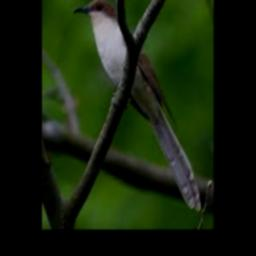Cuckoo: (73, 0, 202, 211)
